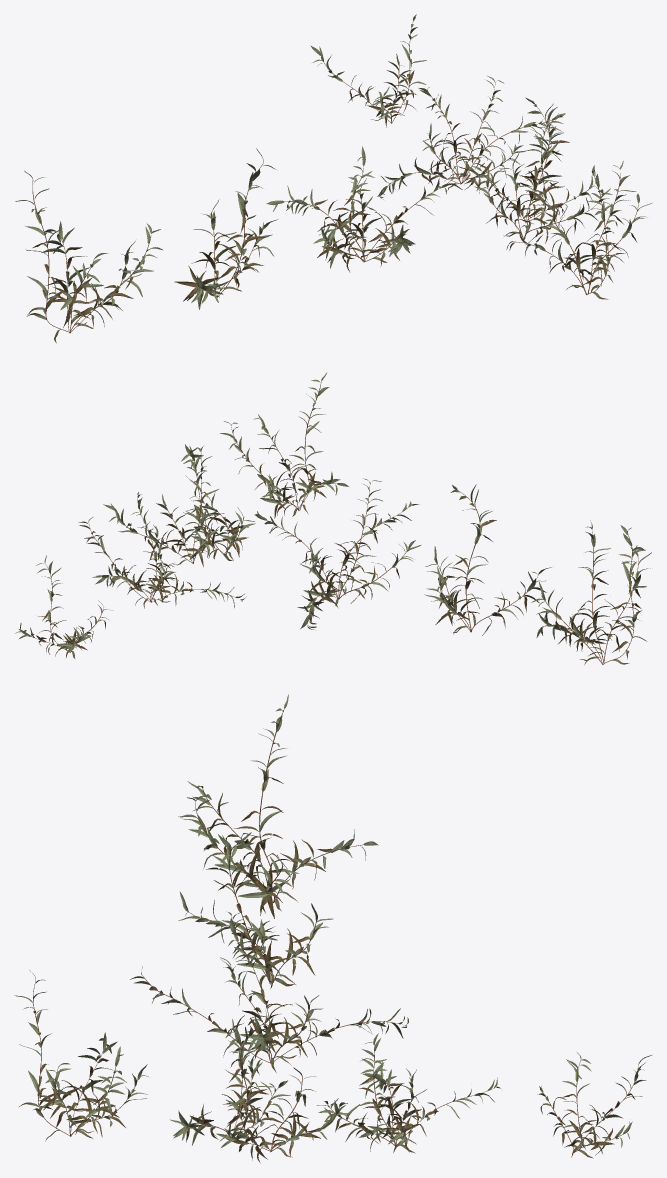
File: props.glb
The picture shows the model from 3 angles, top to bottom: view 1: azimuth 30°, elevation 25°; view 2: azimuth 150°, elevation 25°; view 3: azimuth 270°, elevation 25°; orthographic projection. The views are drawn at different scales.
Parts seen in each view (by area): view 1: P_planter_a_shrub_02_c_LOD0, P_planter_a_shrub_02_a_LOD0, P_planter_b_shrub_02_c_LOD0, P_planter_b_shrub_02_a_LOD0, P_planter_a_shrub_02_b_LOD0, P_planter_b_shrub_02_b_LOD0, P_planter_a_shrub_02_d_LOD0, P_planter_b_shrub_02_d_LOD0; view 2: P_planter_a_shrub_02_a_LOD0, P_planter_a_shrub_02_c_LOD0, P_planter_b_shrub_02_a_LOD0, P_planter_a_shrub_02_b_LOD0, P_planter_b_shrub_02_c_LOD0, P_planter_b_shrub_02_b_LOD0, P_planter_a_shrub_02_d_LOD0, P_planter_b_shrub_02_d_LOD0; view 3: P_planter_a_shrub_02_a_LOD0, P_planter_a_shrub_02_c_LOD0, P_planter_b_shrub_02_a_LOD0, P_planter_b_shrub_02_c_LOD0, P_planter_a_shrub_02_b_LOD0, P_planter_a_shrub_02_d_LOD0, P_planter_b_shrub_02_b_LOD0, P_planter_b_shrub_02_d_LOD0.
Boxes of the visible parts, box(x1,y1,x2,y2) form: P_planter_a_shrub_02_c_LOD0: box(266, 146, 468, 272); P_planter_a_shrub_02_a_LOD0: box(15, 171, 162, 343); P_planter_b_shrub_02_c_LOD0: box(377, 76, 565, 199); P_planter_b_shrub_02_a_LOD0: box(506, 161, 652, 299); P_planter_a_shrub_02_b_LOD0: box(174, 148, 277, 309); P_planter_b_shrub_02_b_LOD0: box(474, 97, 609, 244); P_planter_a_shrub_02_d_LOD0: box(471, 107, 599, 226); P_planter_b_shrub_02_d_LOD0: box(310, 14, 426, 127); P_planter_a_shrub_02_a_LOD0: box(531, 520, 651, 664); P_planter_a_shrub_02_c_LOD0: box(254, 478, 421, 629); P_planter_b_shrub_02_a_LOD0: box(220, 372, 348, 518); P_planter_a_shrub_02_b_LOD0: box(424, 484, 551, 635); P_planter_b_shrub_02_c_LOD0: box(78, 492, 246, 608); P_planter_b_shrub_02_b_LOD0: box(181, 444, 255, 560); P_planter_a_shrub_02_d_LOD0: box(103, 446, 218, 567); P_planter_b_shrub_02_d_LOD0: box(15, 555, 113, 658); P_planter_a_shrub_02_a_LOD0: box(178, 694, 378, 918); P_planter_a_shrub_02_c_LOD0: box(130, 911, 408, 1074); P_planter_b_shrub_02_a_LOD0: box(14, 970, 148, 1141); P_planter_b_shrub_02_c_LOD0: box(317, 1033, 500, 1153); P_planter_a_shrub_02_b_LOD0: box(178, 832, 333, 989); P_planter_a_shrub_02_d_LOD0: box(216, 1019, 350, 1163); P_planter_b_shrub_02_b_LOD0: box(170, 1010, 290, 1145); P_planter_b_shrub_02_d_LOD0: box(537, 1052, 651, 1158).
Size of the model in its own units: 2.21 by 0.6029 by 1.84.
Materials: 2 (2 with a texture image).
